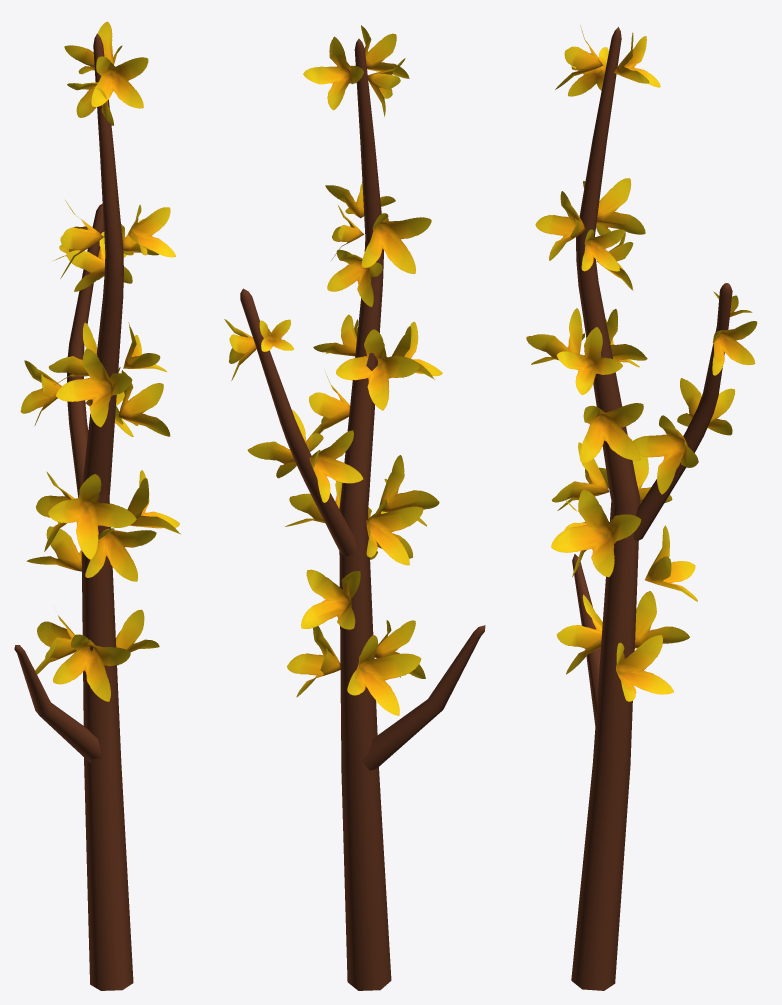
File: SE_Branch_01.fbx
The picture shows the model from 3 angles, left to right: view 1: azimuth 30°, elevation 25°; view 2: azimuth 150°, elevation 25°; view 3: azimuth 270°, elevation 25°; orthographic projection.
Parts seen in each view (by area): view 1: SE_Branch_01; view 2: SE_Branch_01; view 3: SE_Branch_01.
Part boxes in pixels (x1,y1,x2,y2): SE_Branch_01: (14, 21, 180, 990); SE_Branch_01: (224, 25, 485, 990); SE_Branch_01: (526, 25, 757, 990).
Size of the model in its own units: 1.16 by 5.33 by 1.27.
